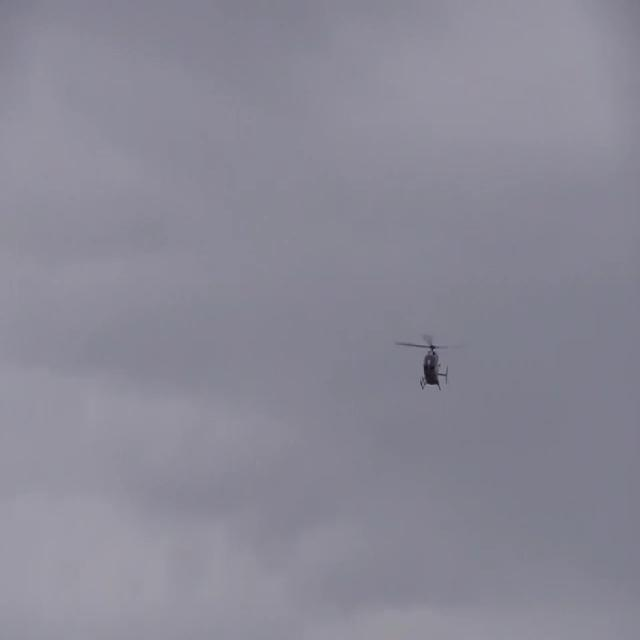Helicopter: (388, 319, 472, 403)
